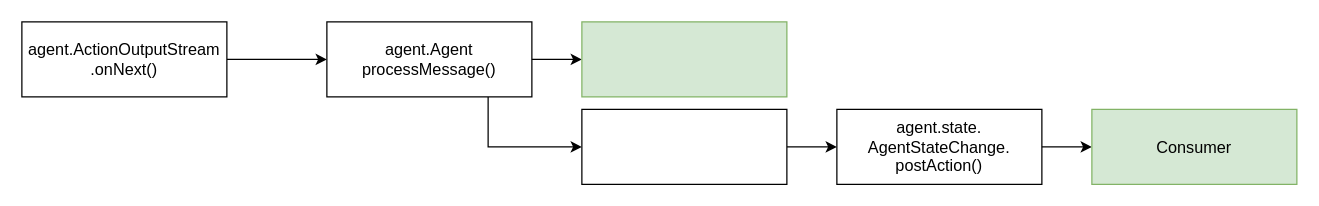
Image size: 1319x206. Some labels were removed from this diagram. The shapes that lost their labels are listed below. From the top down, each one's centre as x and y in pixels, then its label:
point (684, 59): agent.state. AgentState. processMessage()
point (684, 146): agent.Agent changeState()
